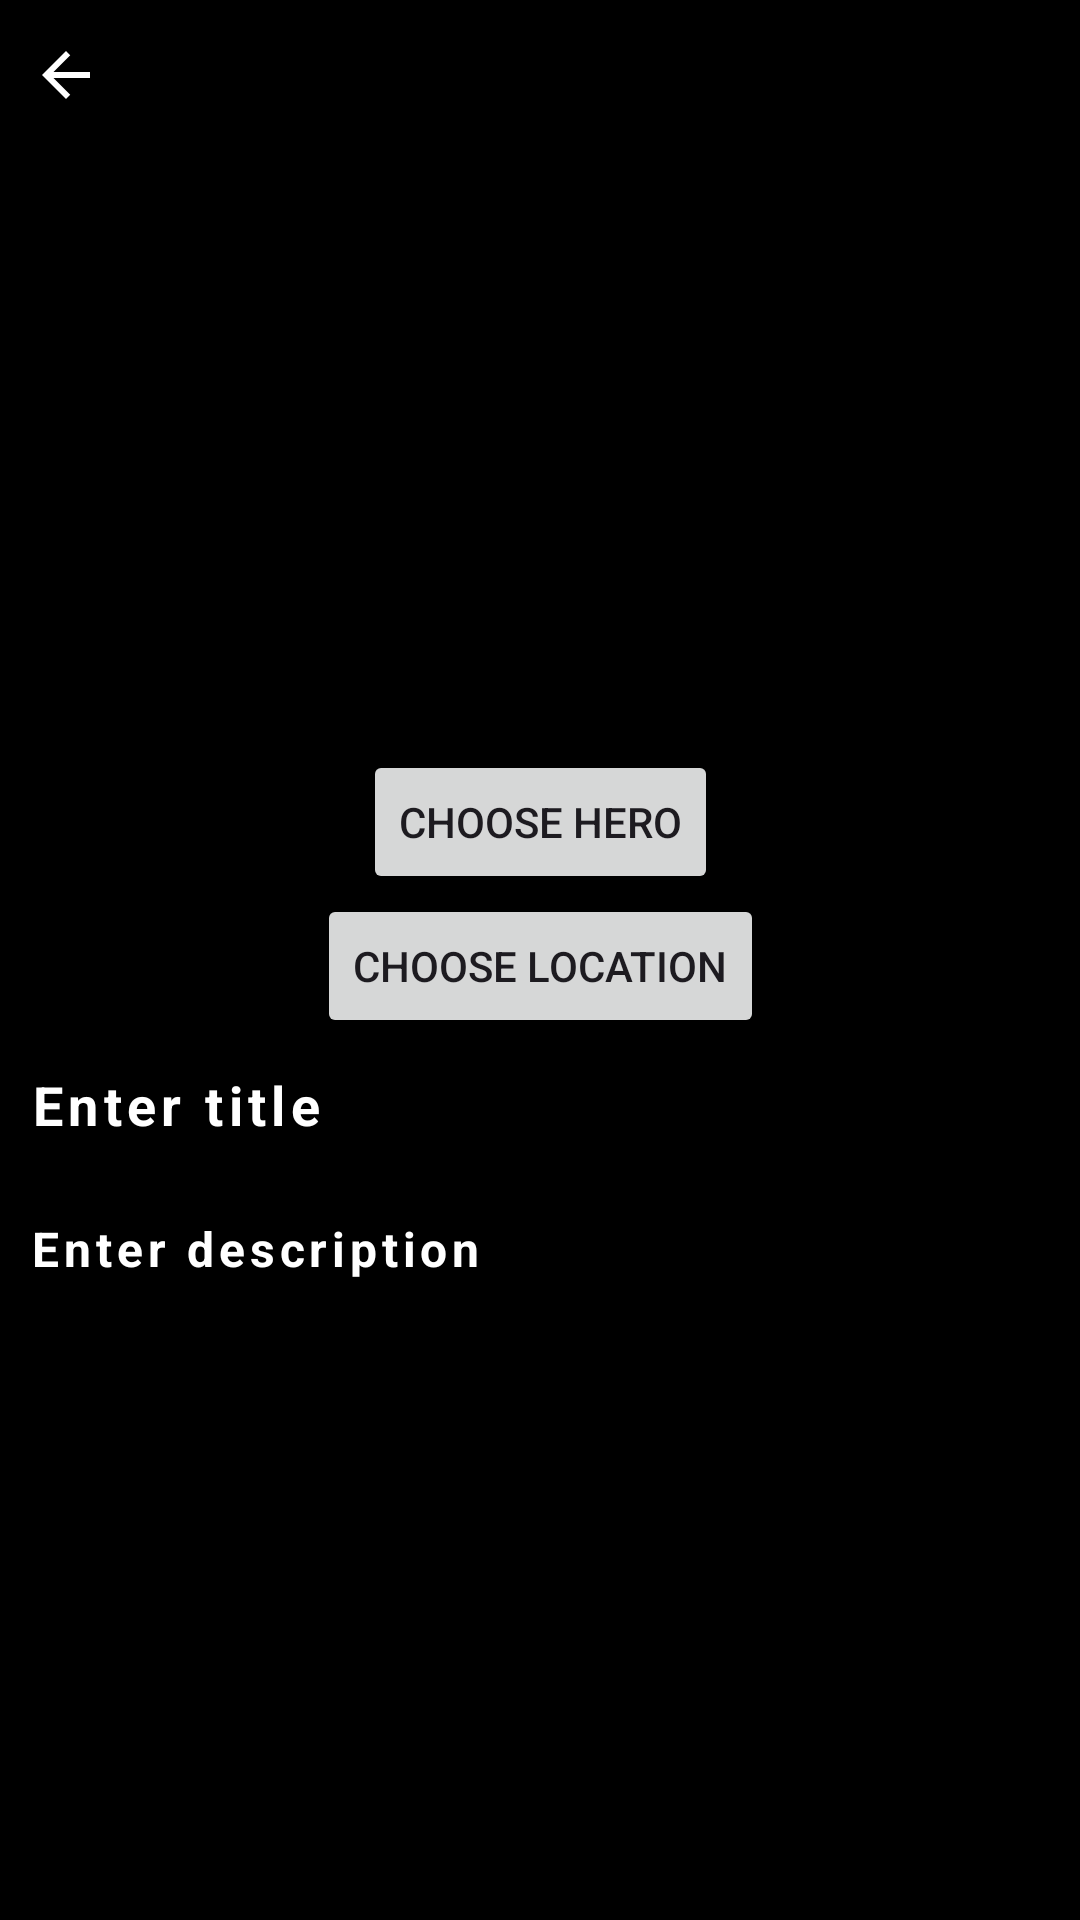

Where icons sit on this 1080 × 1920 app screen, as (x1, y1, x2, y2):
back: (42, 51, 90, 99)
